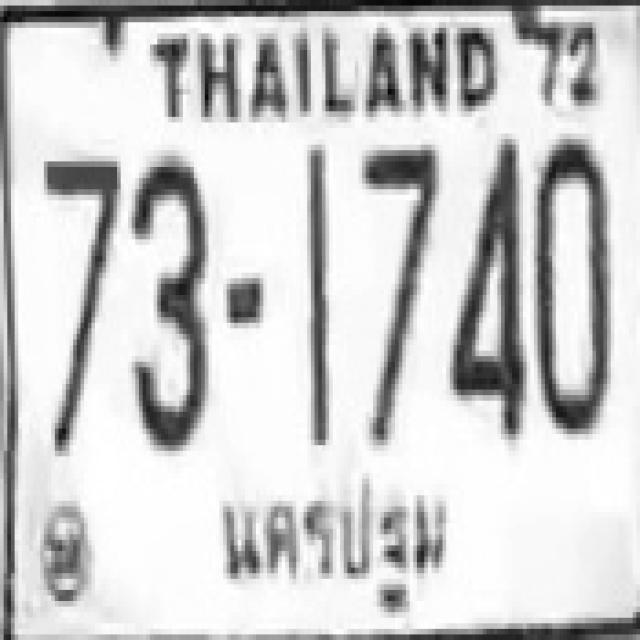0: (532, 134, 609, 428)
1: (304, 142, 329, 442)
3: (126, 150, 207, 445)
4: (446, 134, 523, 434)
7: (38, 150, 119, 451), (358, 142, 436, 442), (358, 142, 436, 353), (40, 153, 117, 353)
NakhonPathom: (204, 462, 459, 626)
